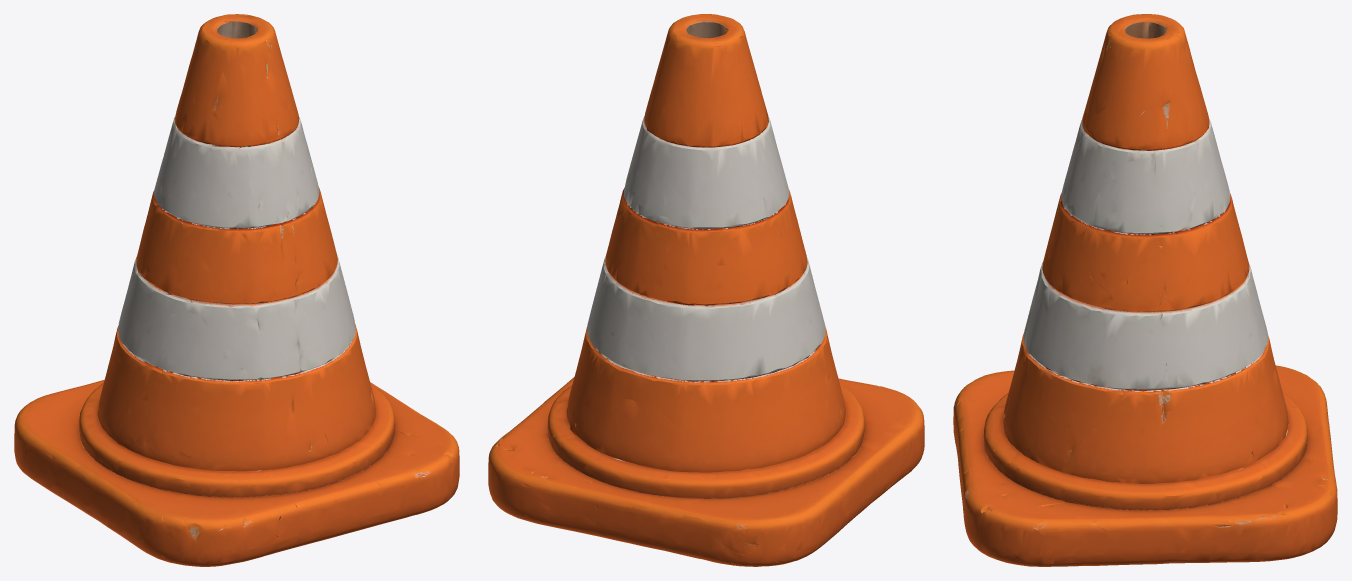
File: traffic-cone.glb
3 renders of one model, left to right at view 1: azimuth 30°, elevation 25°; view 2: azimuth 150°, elevation 25°; view 3: azimuth 270°, elevation 25°, orthographic. The views are drawn at different scales.
Visible parts, largest first — view 1: traffic-cone; view 2: traffic-cone; view 3: traffic-cone.
Boxes of the visible parts, left/top/right/bottom form: traffic-cone: left=14, top=14, right=459, bottom=566; traffic-cone: left=488, top=14, right=924, bottom=566; traffic-cone: left=953, top=14, right=1337, bottom=566.
Size of the model in its own units: 0.21 by 0.2762 by 0.2085.
1 material, 1 textured.
